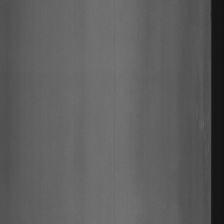silk_spot: (193, 81, 209, 178)
